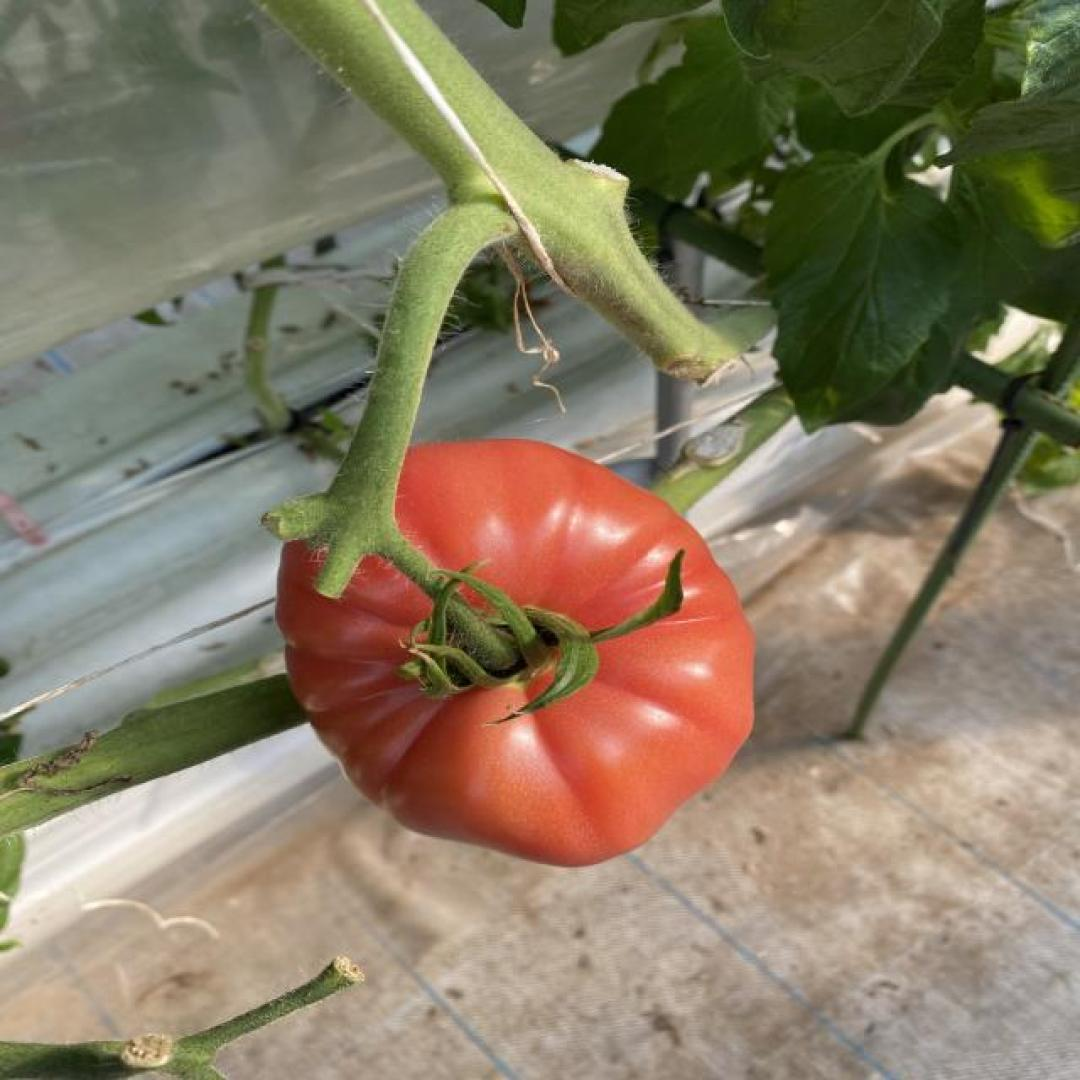matang: (275, 440, 758, 868)
